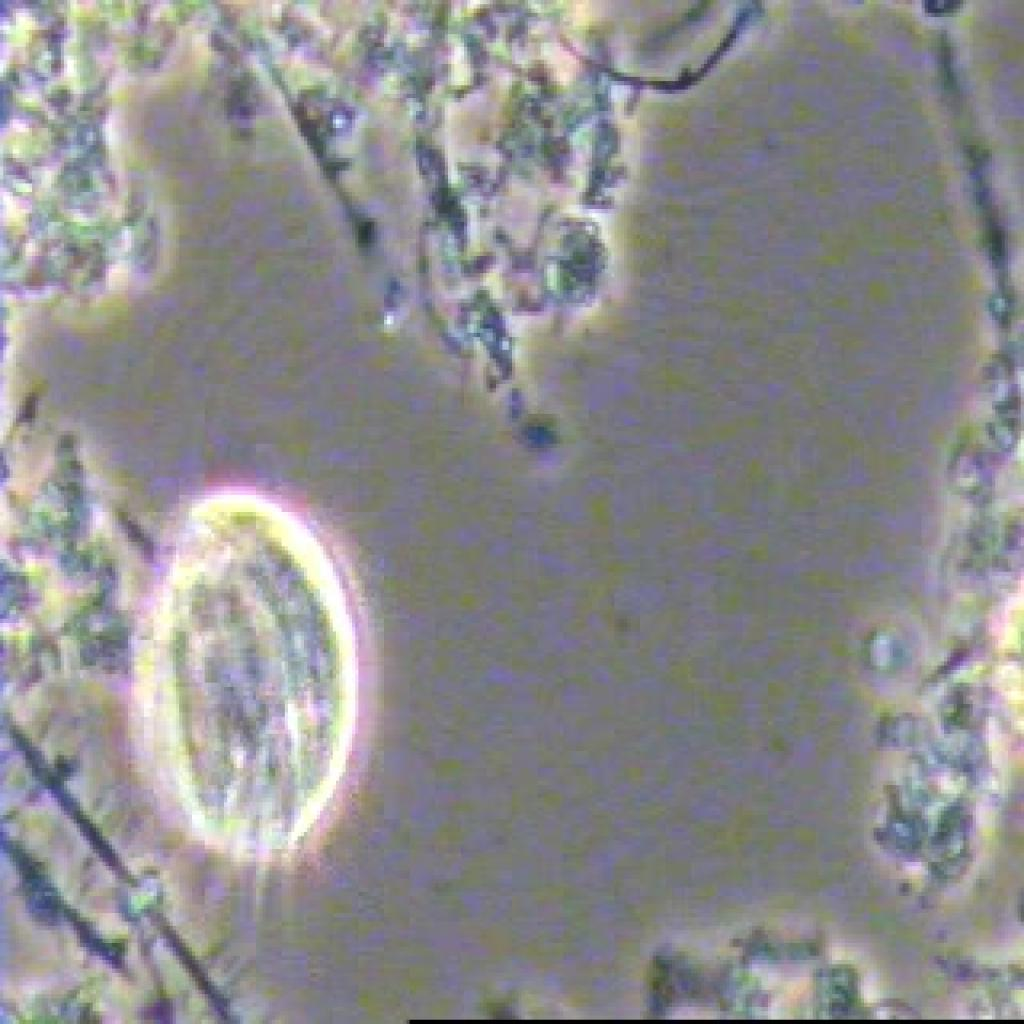Aspidisca: (118, 448, 410, 973)
